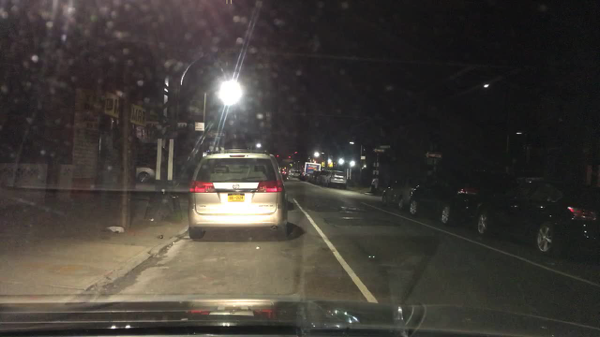car: (476, 175, 600, 258), (186, 148, 289, 241), (408, 167, 520, 228), (381, 176, 421, 210), (105, 163, 158, 184), (324, 169, 349, 190), (370, 176, 390, 194), (316, 170, 329, 185), (308, 169, 319, 184), (298, 169, 311, 181), (280, 168, 290, 180), (292, 170, 301, 179), (289, 167, 296, 177)
traffic light: (276, 154, 282, 159), (287, 156, 294, 159)
traffic sign: (203, 130, 228, 139), (424, 150, 443, 160), (193, 121, 206, 131), (373, 147, 386, 154), (378, 145, 389, 150), (373, 161, 380, 168), (373, 169, 380, 176), (360, 155, 367, 160)
